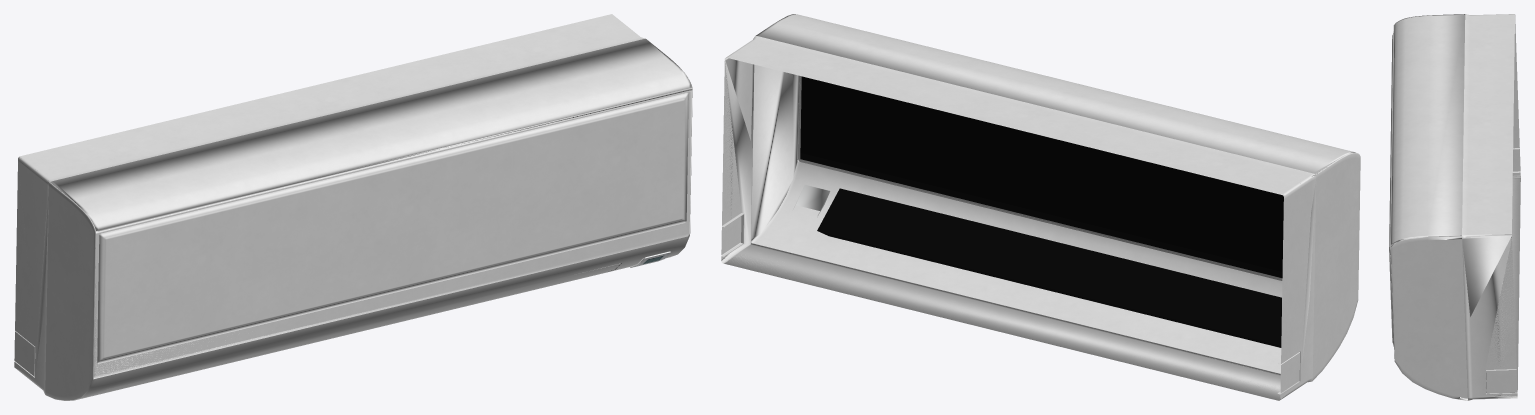
File: aire.glb
The picture shows the model from 3 angles, left to right: view 1: azimuth 30°, elevation 25°; view 2: azimuth 150°, elevation 25°; view 3: azimuth 270°, elevation 25°; orthographic projection. The views are drawn at different scales.
Parts seen in each view (by area): view 1: Conditioner; view 2: Conditioner; view 3: Conditioner.
Boxes of the visible parts, box(x1,y1,x2,y2) form: Conditioner: box(14, 14, 692, 400); Conditioner: box(721, 14, 1360, 400); Conditioner: box(1389, 14, 1520, 400).
Bounding box in the file's own units: 0.5674 × 0.1979 × 0.1422.
1 material, 1 textured.
